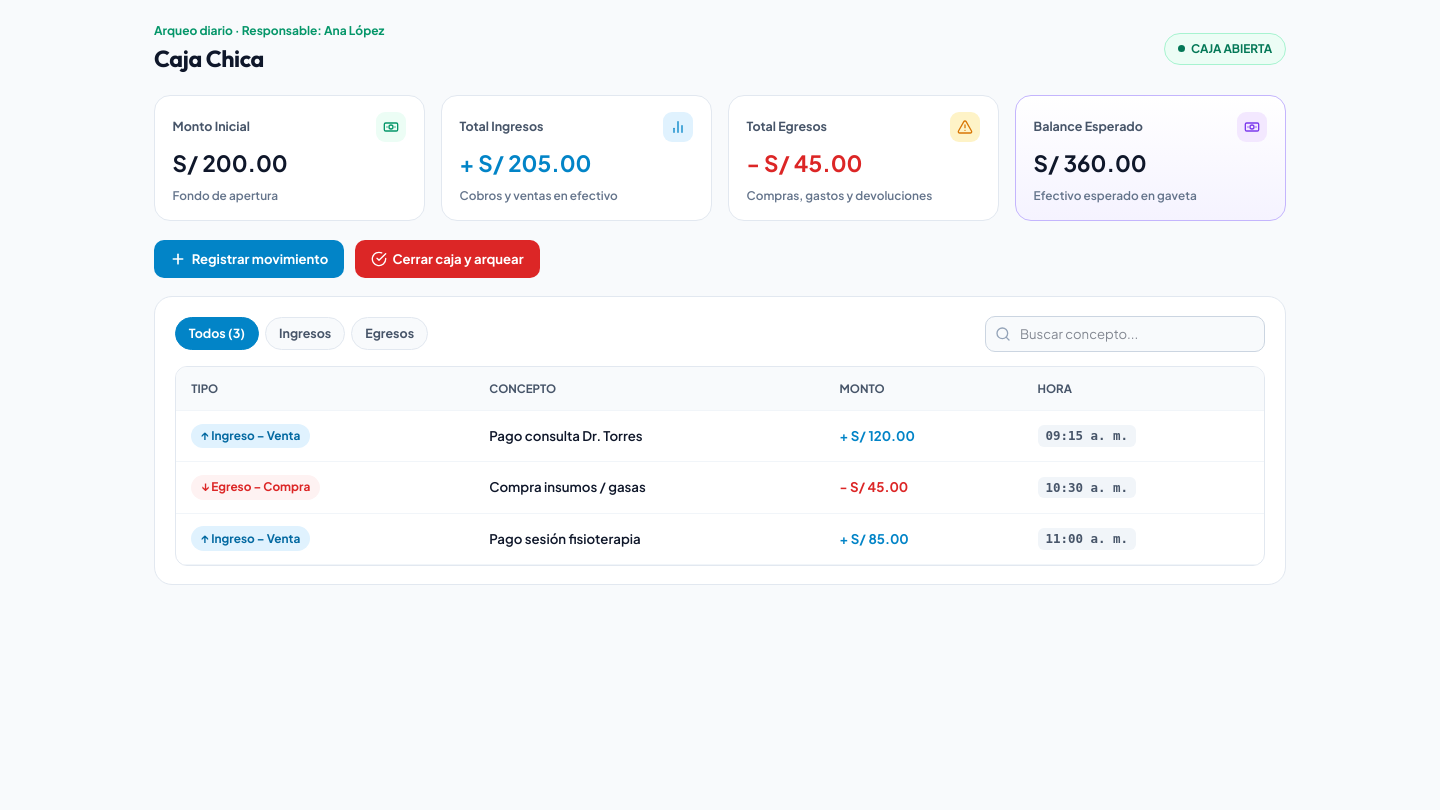
Test: CashRegisterPage (Pruebas de comportamiento accesibles) › permite abrir el formulario de registro de movimiento desde el botón visible
Click the button "Registrar movimiento" at [249, 259], box [154,240,344,278]
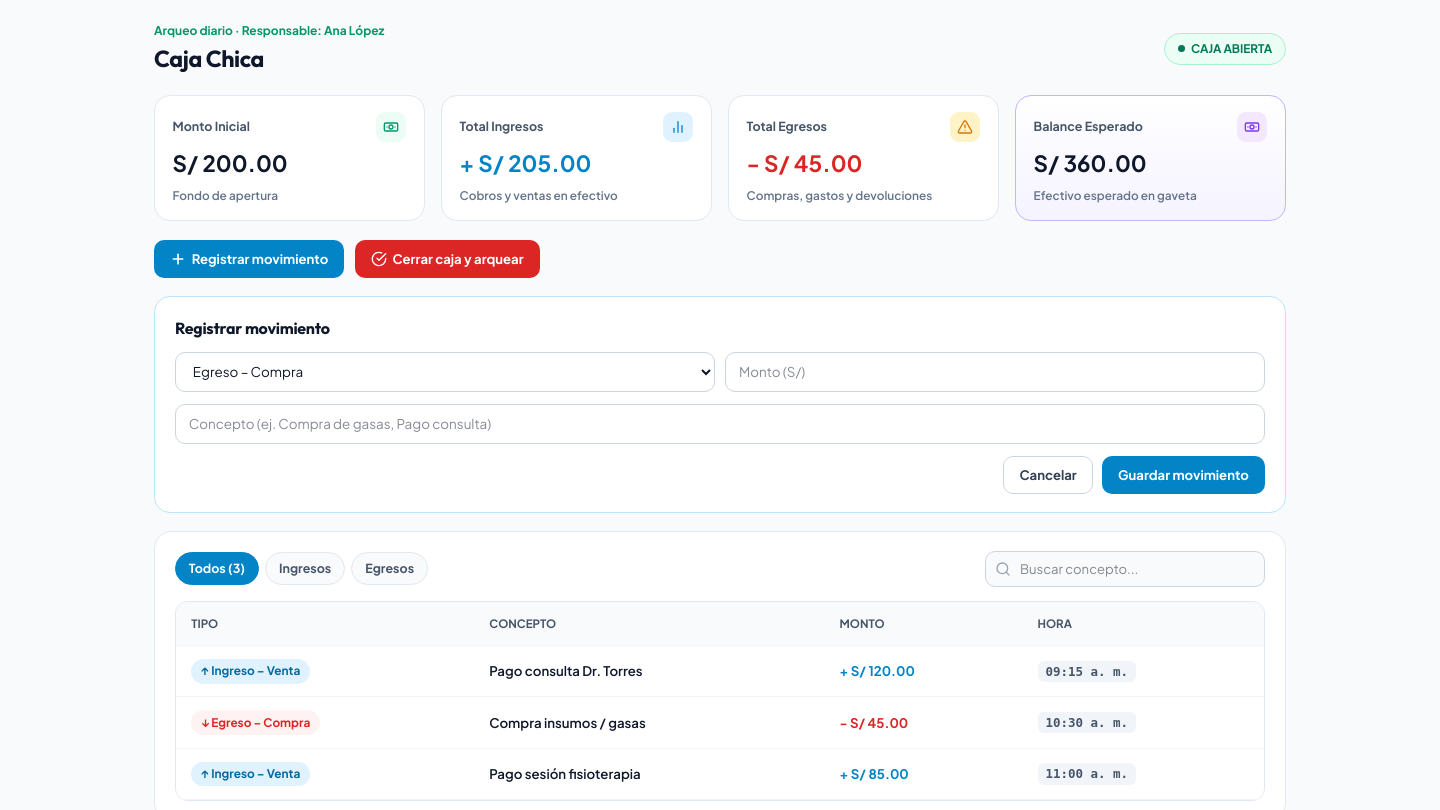
Expected: the dropdown is shown, [175,352,715,392]
Expected: the number field is shown, [725,352,1265,392]
